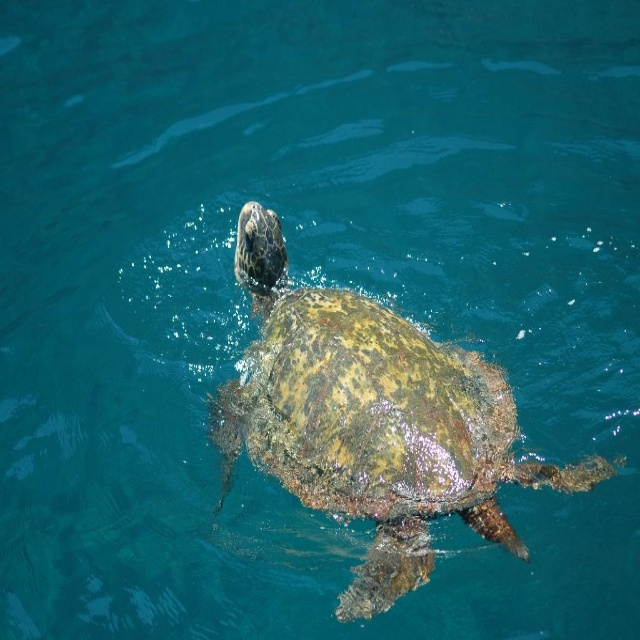Sea turtle: (210, 204, 617, 621)
